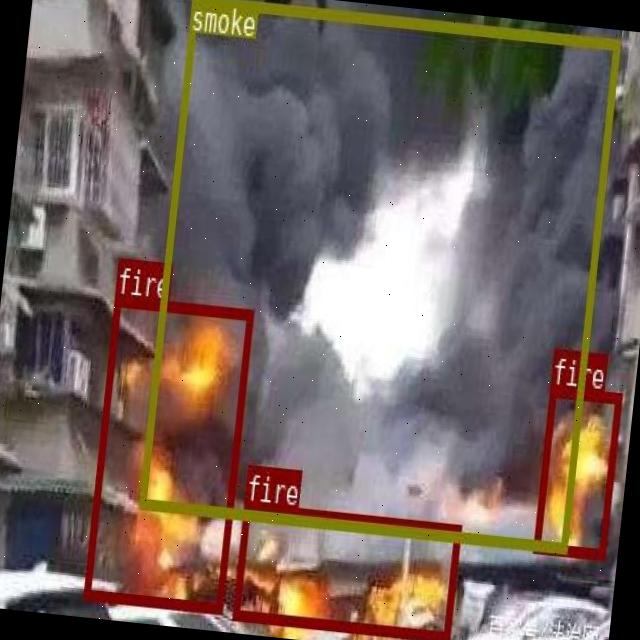fire: (82, 294, 253, 612), (232, 501, 459, 640), (532, 384, 620, 558)
smoke: (138, 0, 619, 552)
